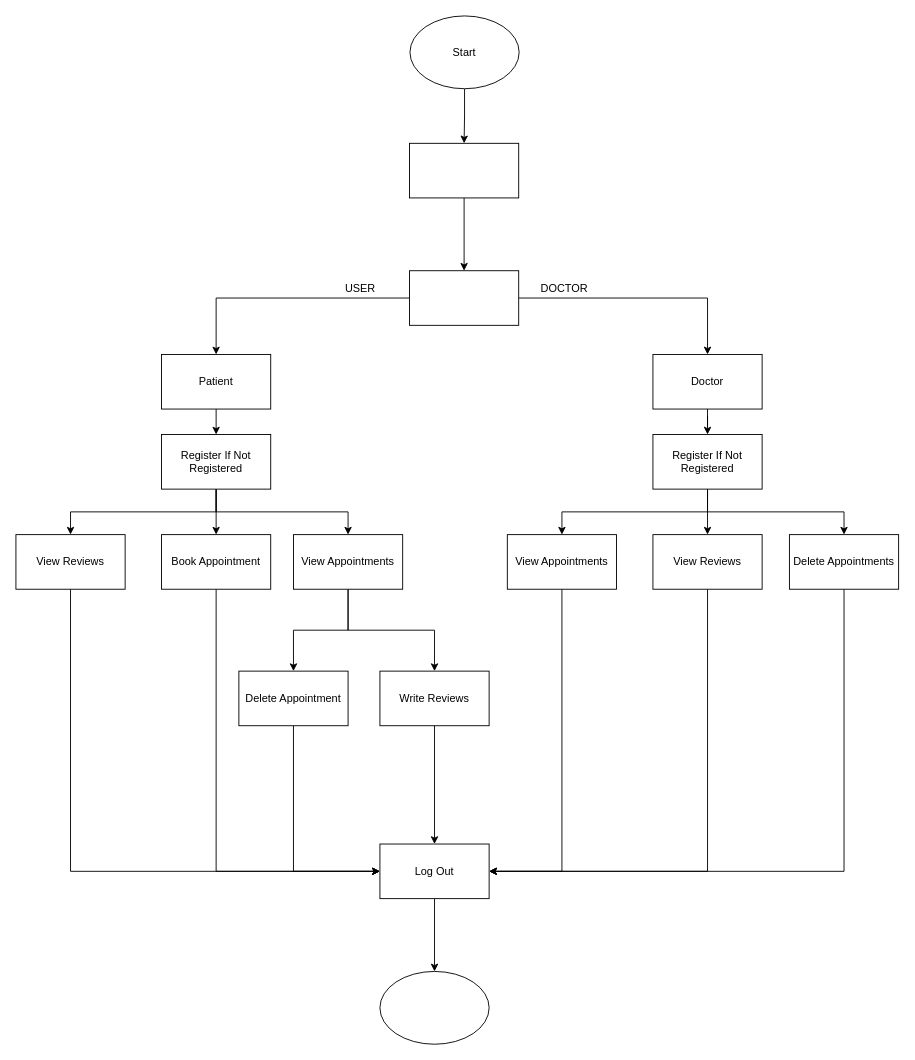
This 915x1060 diagram has some shape labels left out. Each missing label, with the centre of its shape:
"End" belongs at (x=434, y=1007).
"Login Module" belongs at (x=464, y=297).
"MHealth" belongs at (x=464, y=170).
